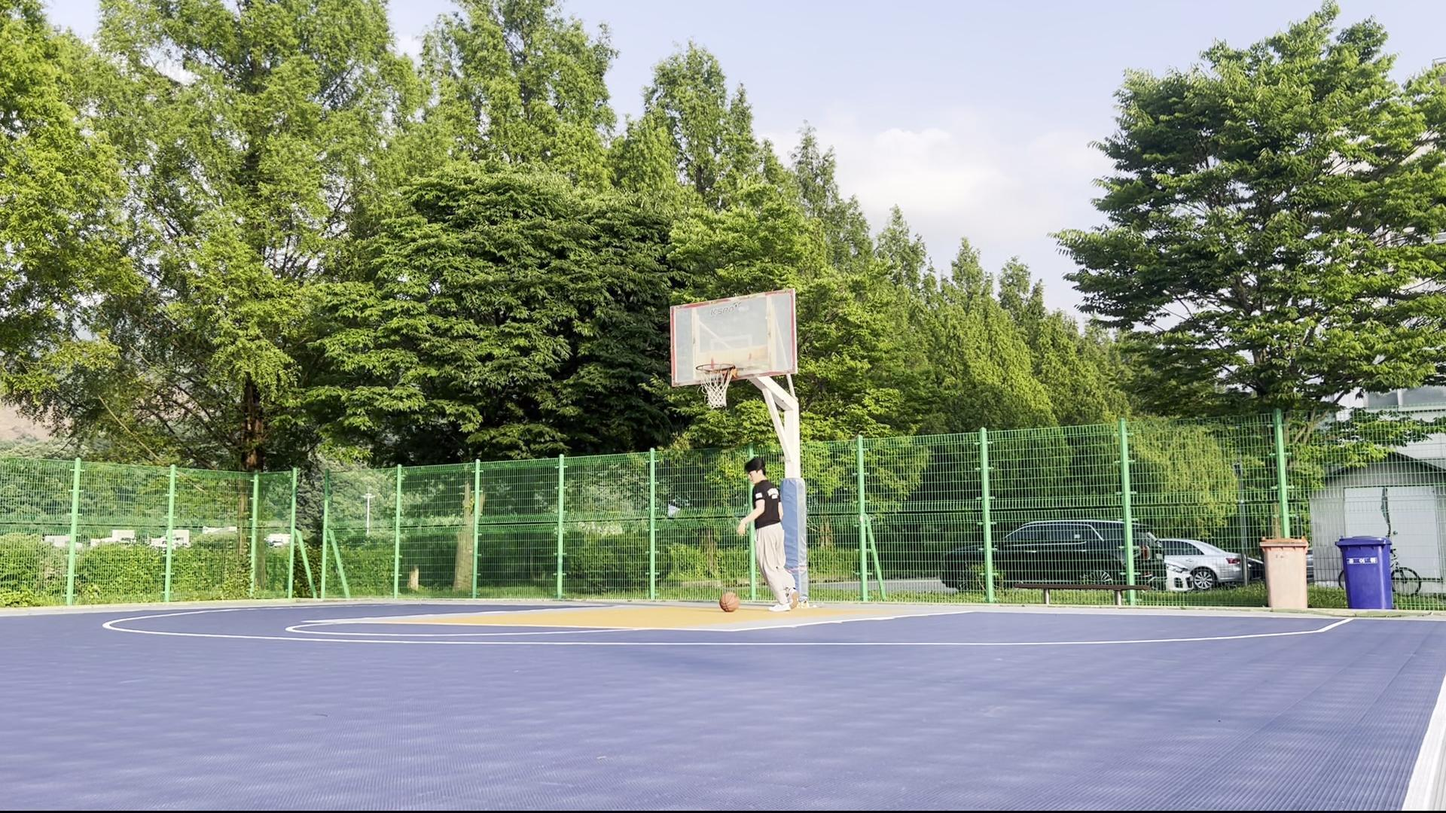ball: (718, 591, 740, 614)
human: (736, 455, 800, 613)
rim: (695, 362, 736, 409)
